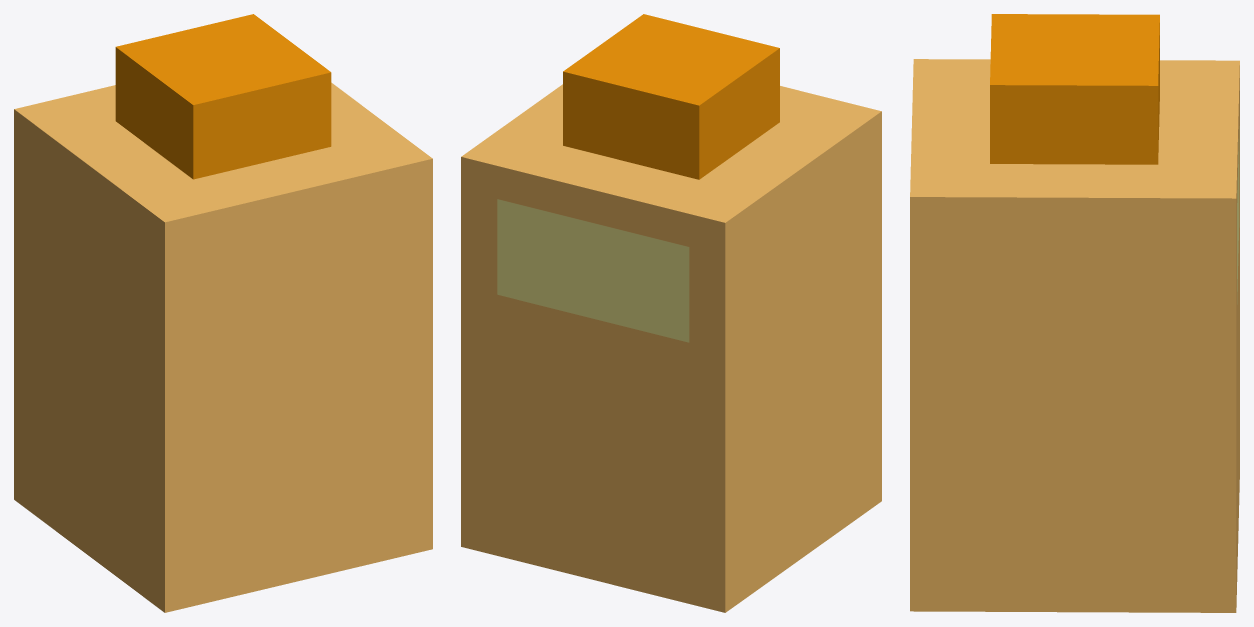
Rendered from Botella01.fbx.
The picture shows the model from 3 angles, left to right: view 1: azimuth 30°, elevation 25°; view 2: azimuth 150°, elevation 25°; view 3: azimuth 270°, elevation 25°; orthographic projection. The views are drawn at different scales.
Visible parts, largest first — view 1: Botella01; view 2: Botella01; view 3: Botella01.
Boxes of the visible parts, bbox=[...] form: Botella01: bbox=[14, 14, 432, 612]; Botella01: bbox=[461, 14, 881, 612]; Botella01: bbox=[910, 14, 1239, 612].
Size of the model in its own units: 12.7 by 20.95 by 12.7.
